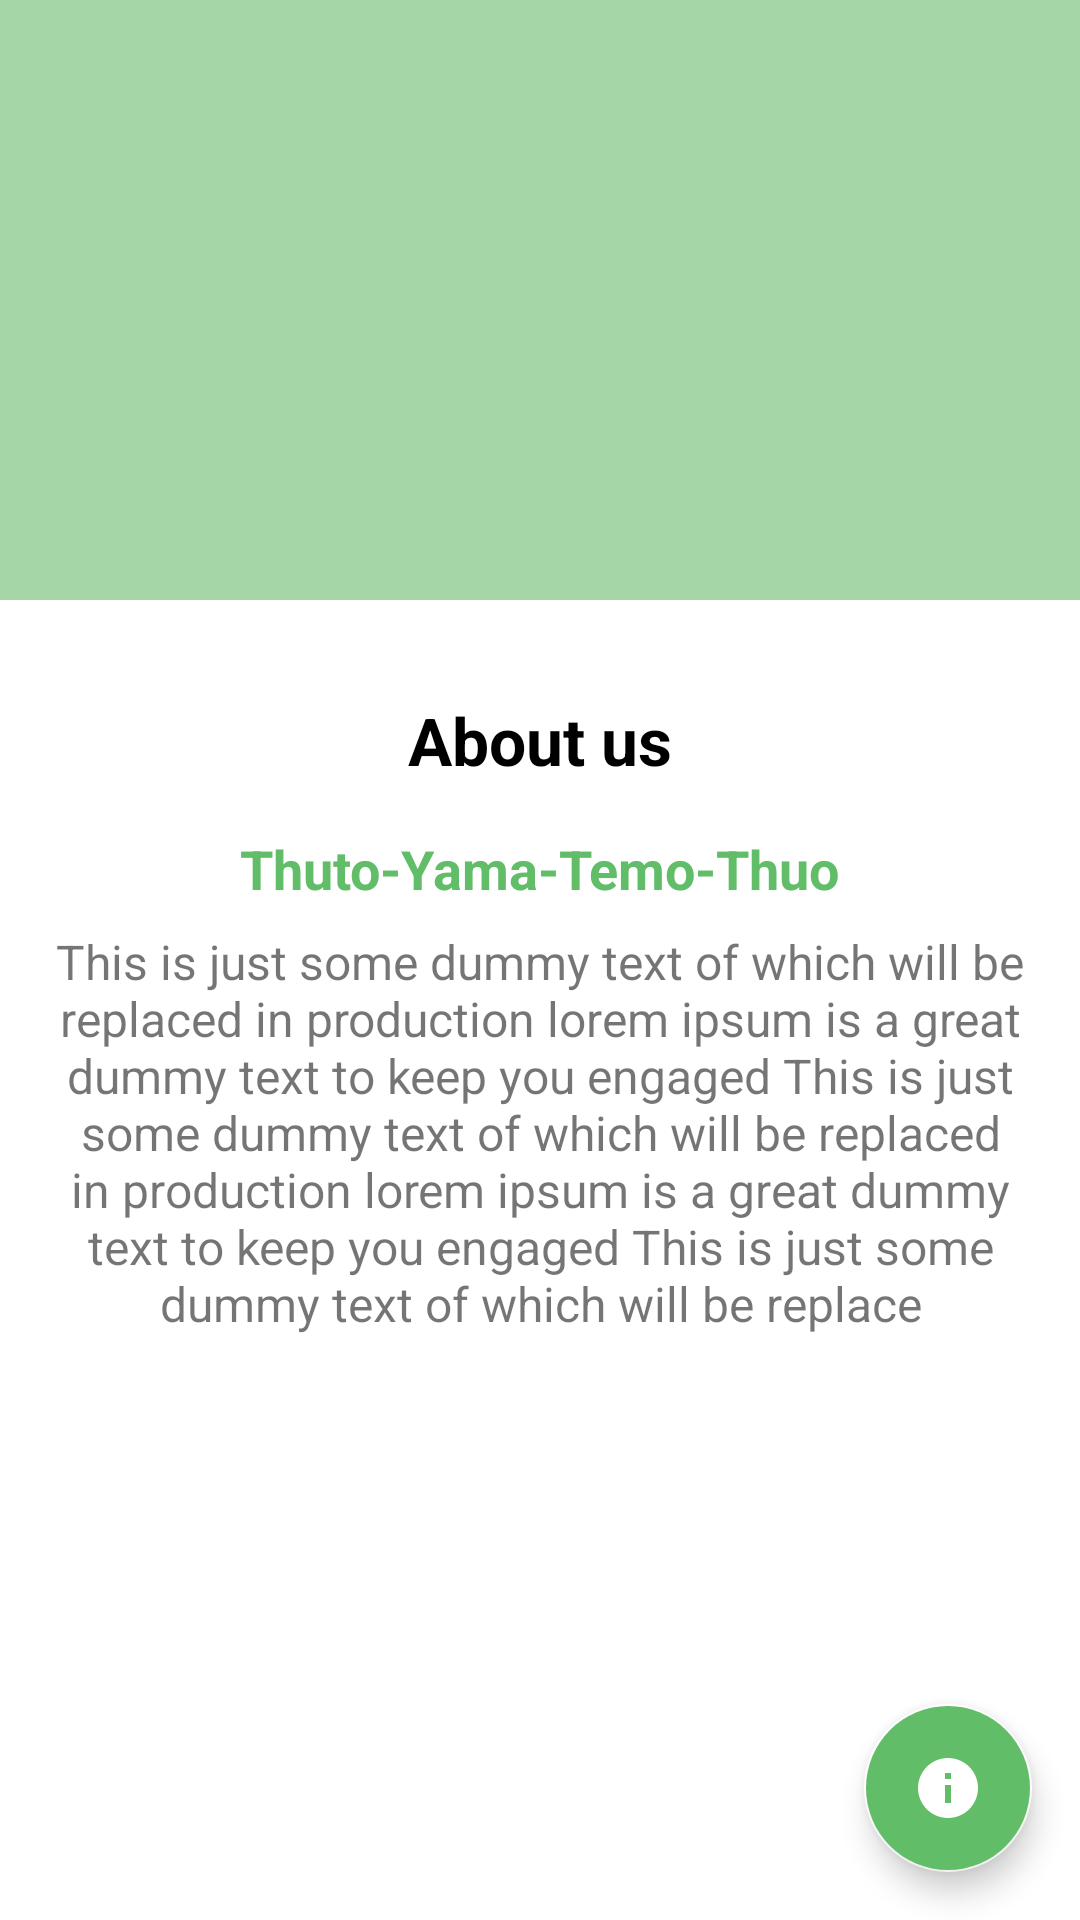

Icon click points for this 1080px x 1920px phone screenshot, format (x,y):
infoff: (948,1788)
